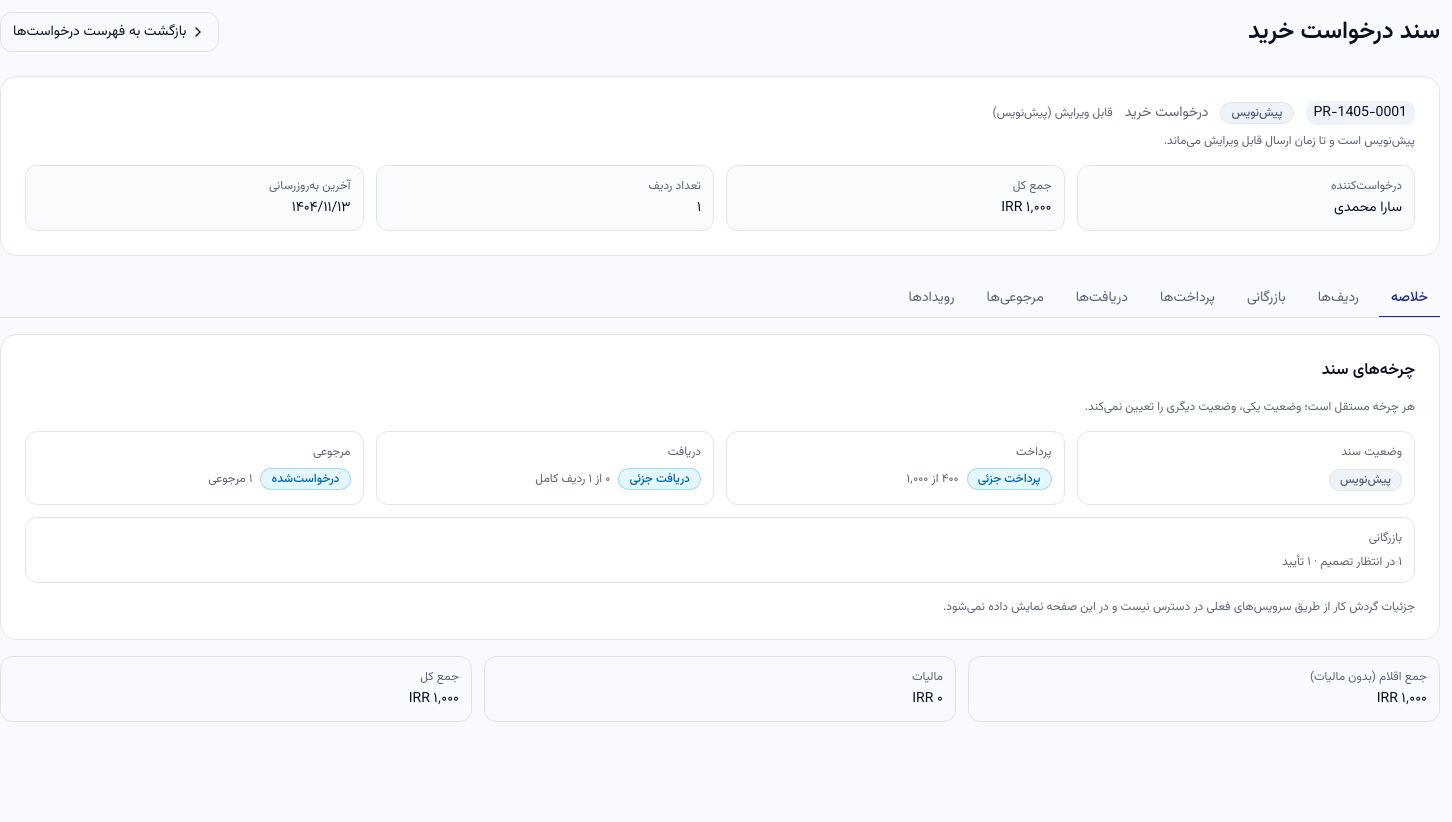
Test: CommercePurchaseDetailView › shows read-derived events, explicitly labelled — never as an audit log
The image size is (1452, 822).
Expected: the element with test id "commerce-detail-identity" is shown, x1=0 y1=76 x2=1440 y2=256
What coordinates should you click on to do the following:
click the tab with test id "commerce-detail-tab-events"
I would click on:
 (932, 299)
Its box is x1=896 y1=280 x2=966 y2=318.
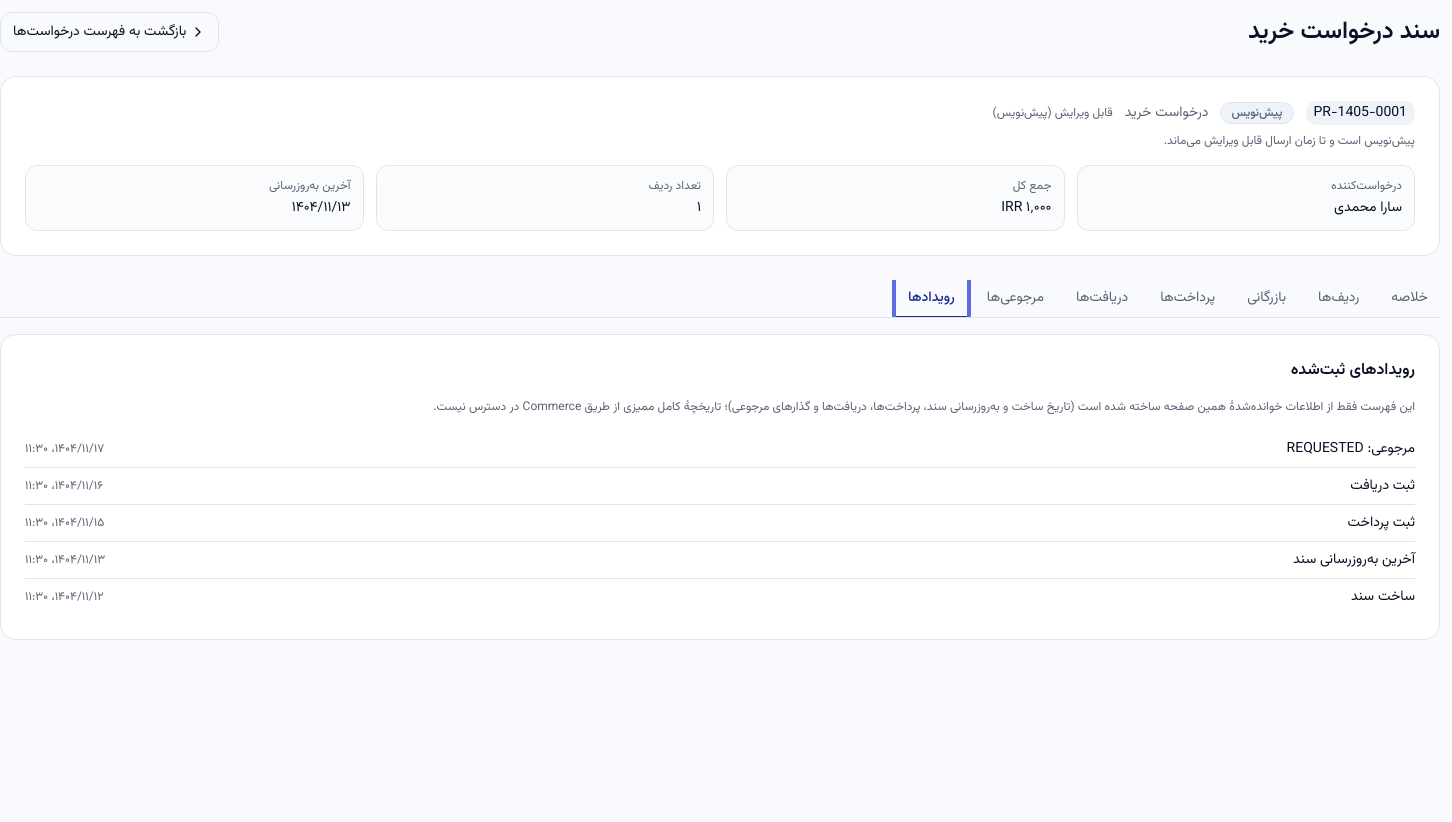
Result: the list with test id "commerce-events-list" is shown at x1=25 y1=431 x2=1415 y2=615
Result: the text "تاریخچهٔ کامل ممیزی" is shown at x1=433 y1=398 x2=1415 y2=416
Result: the text "ساخت سند" is shown at x1=1351 y1=587 x2=1415 y2=607
